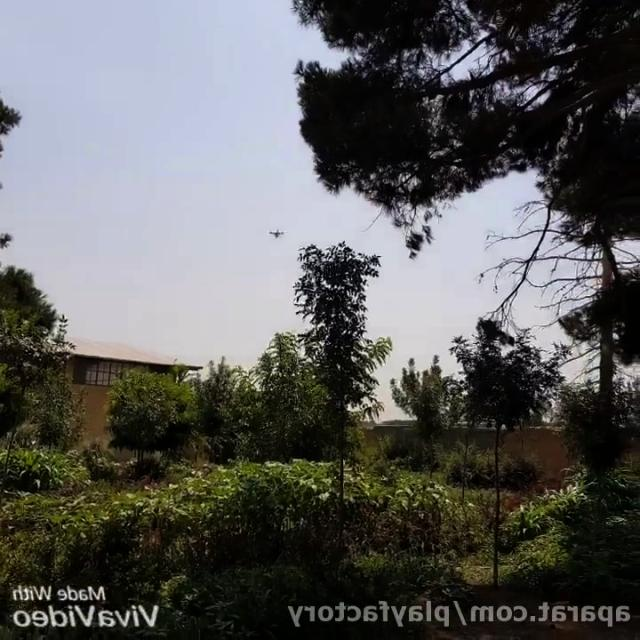drone: (268, 224, 286, 242)
